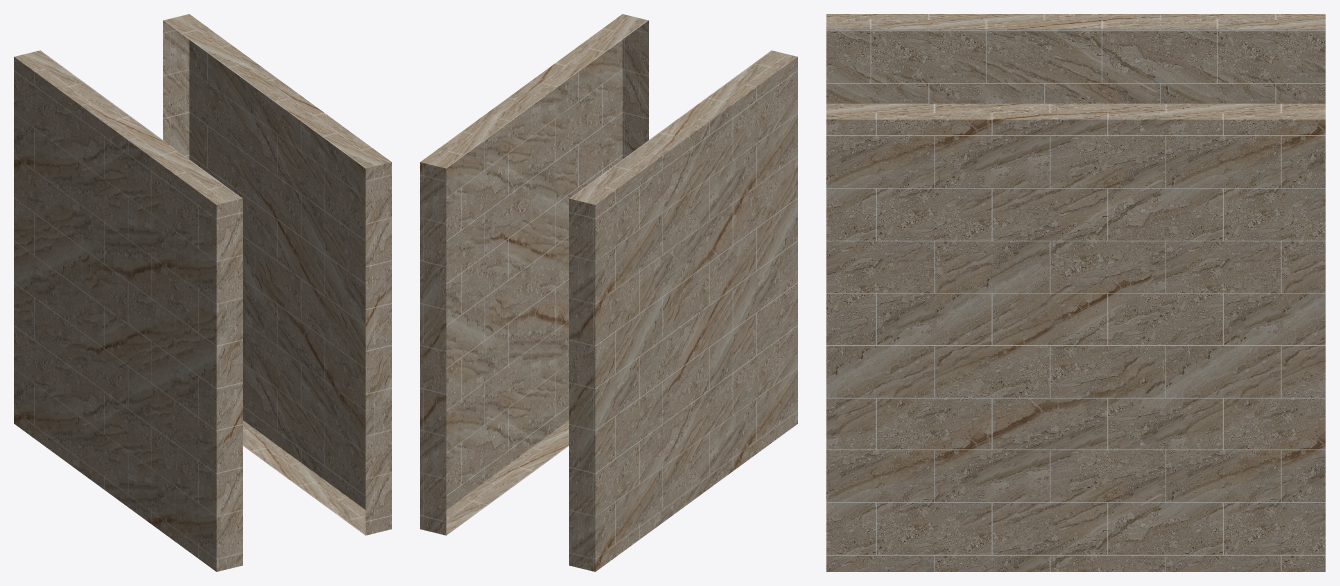
File: simple wall 2x2x1 tiles.fbx
3 renders of one model, left to right at view 1: azimuth 30°, elevation 25°; view 2: azimuth 150°, elevation 25°; view 3: azimuth 270°, elevation 25°, orthographic. The views are drawn at different scales.
Visible parts, largest first — view 1: Cube; view 2: Cube; view 3: Cube.
Boxes of the visible parts, x1,y1,x2,y2 form: Cube: (14,14,391,571); Cube: (420,14,797,571); Cube: (826,14,1325,571).
Bounding box in the file's own units: 100 × 200 × 200.
